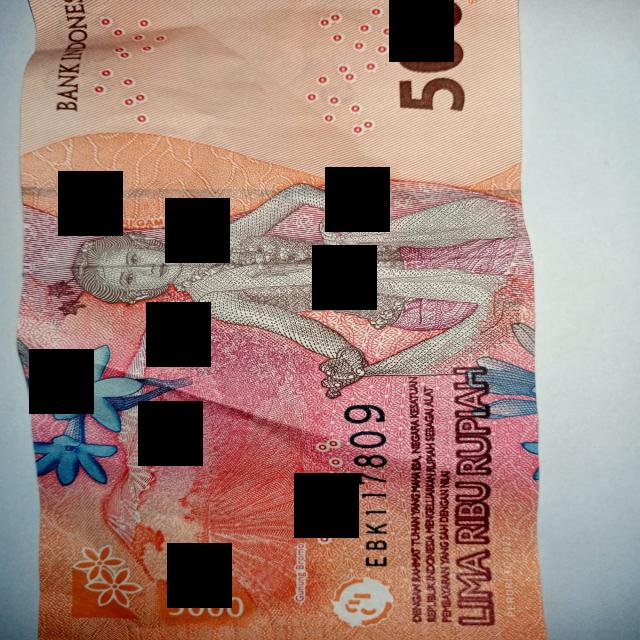lima ribu rupiah: (14, 1, 549, 640)
